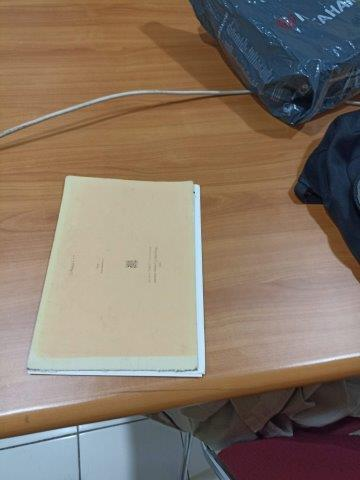kertas: (28, 175, 206, 377)
